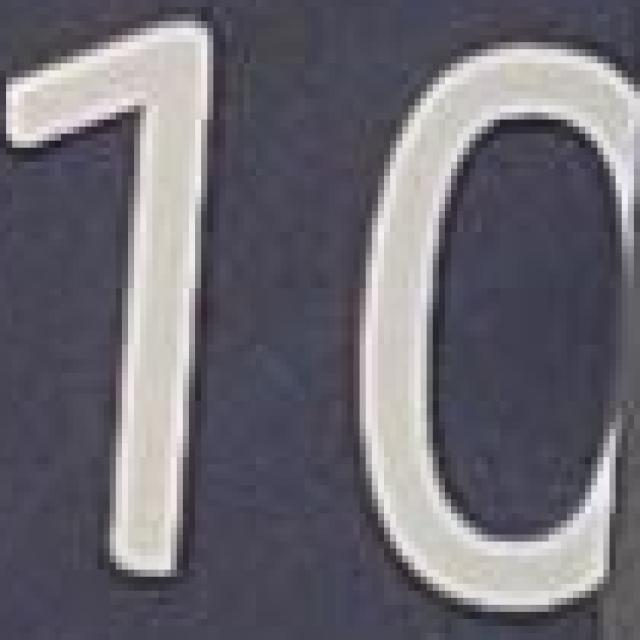character: (342, 25, 640, 629), (0, 7, 226, 605)
